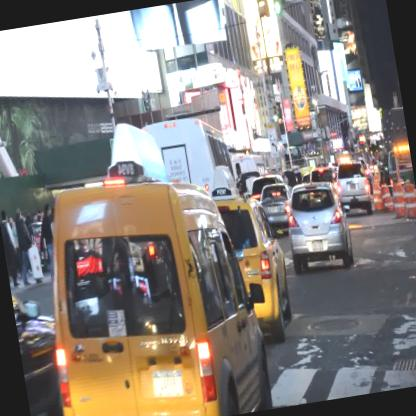car: (26, 162, 277, 415), (212, 192, 296, 346), (280, 176, 355, 276), (332, 160, 374, 218), (256, 182, 298, 238)
